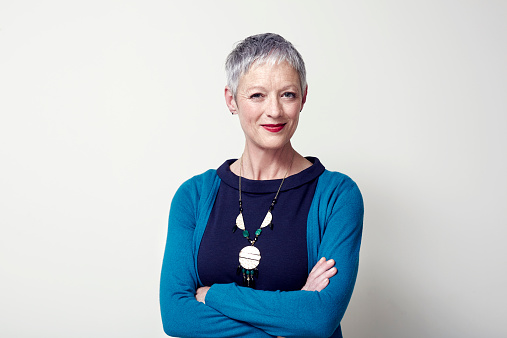em pe: (146, 28, 370, 338)
